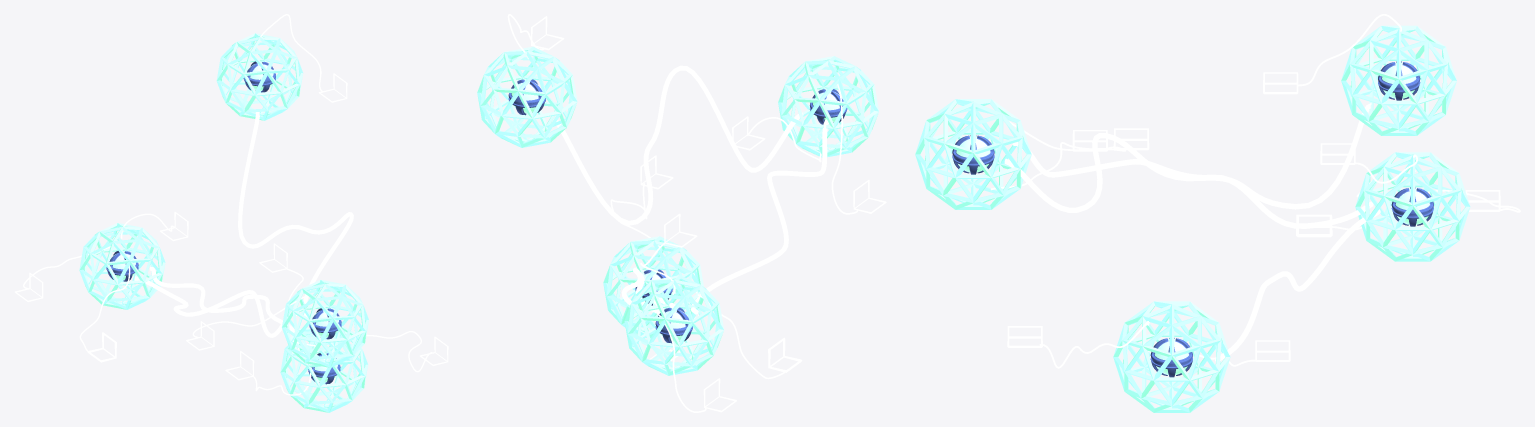
Rendered from cloud1.glb.
3 views of the same model, side by side, from view 1: azimuth 30°, elevation 25°; view 2: azimuth 150°, elevation 25°; view 3: azimuth 270°, elevation 25° (orthographic). The views are drawn at different scales.
Visible parts, largest first — view 1: greenShell1, greenShell3, greenShell2, greenShell, greenCable11, greenCable, greenCable10, greenCore3, greenCore, greenCore4; view 2: greenShell3, greenShell2, greenShell1, greenShell, greenCable11, greenCable, greenCore3, greenCore4, greenCore, greenCable10; view 3: greenShell, greenShell1, greenShell3, greenShell2, greenCable11, greenCable, greenCable10, greenCore2, greenCore, greenCore3, greenCore4.
Part boxes in pixels (x1,y1,x2,y2): greenShell1: (282,279,368,367); greenShell3: (216,33,303,120); greenShell2: (79,223,165,309); greenShell: (280,329,368,412); greenCable11: (238,112,353,317); greenCable: (135,276,296,337); greenCable10: (150,266,303,352); greenCore3: (243,61,275,92); greenCore: (309,308,341,339); greenCore4: (106,251,138,281); greenShell3: (477,46,577,147); greenShell2: (624,275,723,375); greenShell1: (778,56,878,157); greenShell: (603,236,703,338); greenCable11: (553,65,803,225); greenCable: (690,119,828,314); greenCore3: (508,79,545,115); greenCore4: (655,307,692,343); greenCore: (810,89,847,124); greenCable10: (621,267,679,314); greenShell: (1113,301,1230,412); greenShell1: (915,99,1031,209); greenShell3: (1341,25,1456,135); greenShell2: (1355,152,1470,261); greenCable11: (1004,103,1371,212); greenCable: (1012,141,1373,228); greenCable10: (1214,209,1380,361); greenCore2: (1150,338,1192,377); greenCore: (952,135,994,174); greenCore3: (1378,61,1420,100); greenCore4: (1391,187,1433,226).
Bounding box in the file's own units: 20.51 × 25.42 × 32.87.
